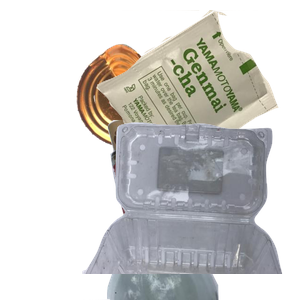glass: (83, 120, 294, 300)
metal: (74, 41, 229, 181)
plastic: (80, 120, 300, 300)
trash: (91, 10, 300, 186)
